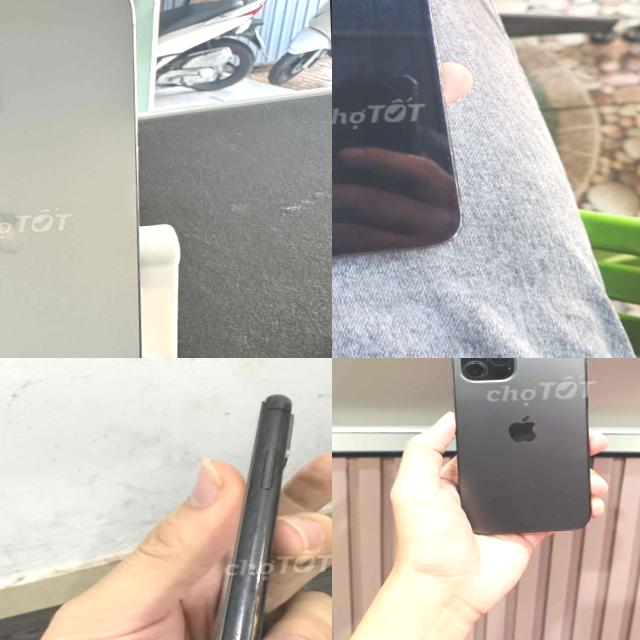gen_12_13: (332, 0, 469, 271), (445, 358, 592, 540)
gen_15: (0, 0, 162, 358)
gen_x_xs: (206, 394, 292, 640)
